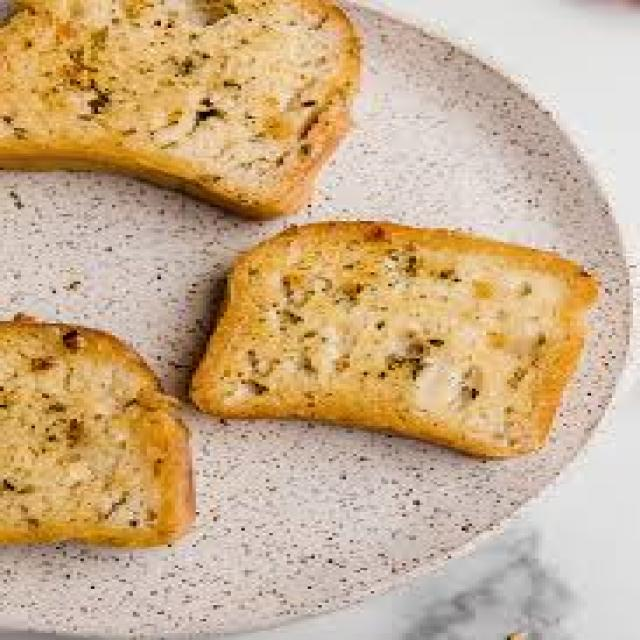Bread: (192, 221, 597, 457), (2, 321, 195, 546)
